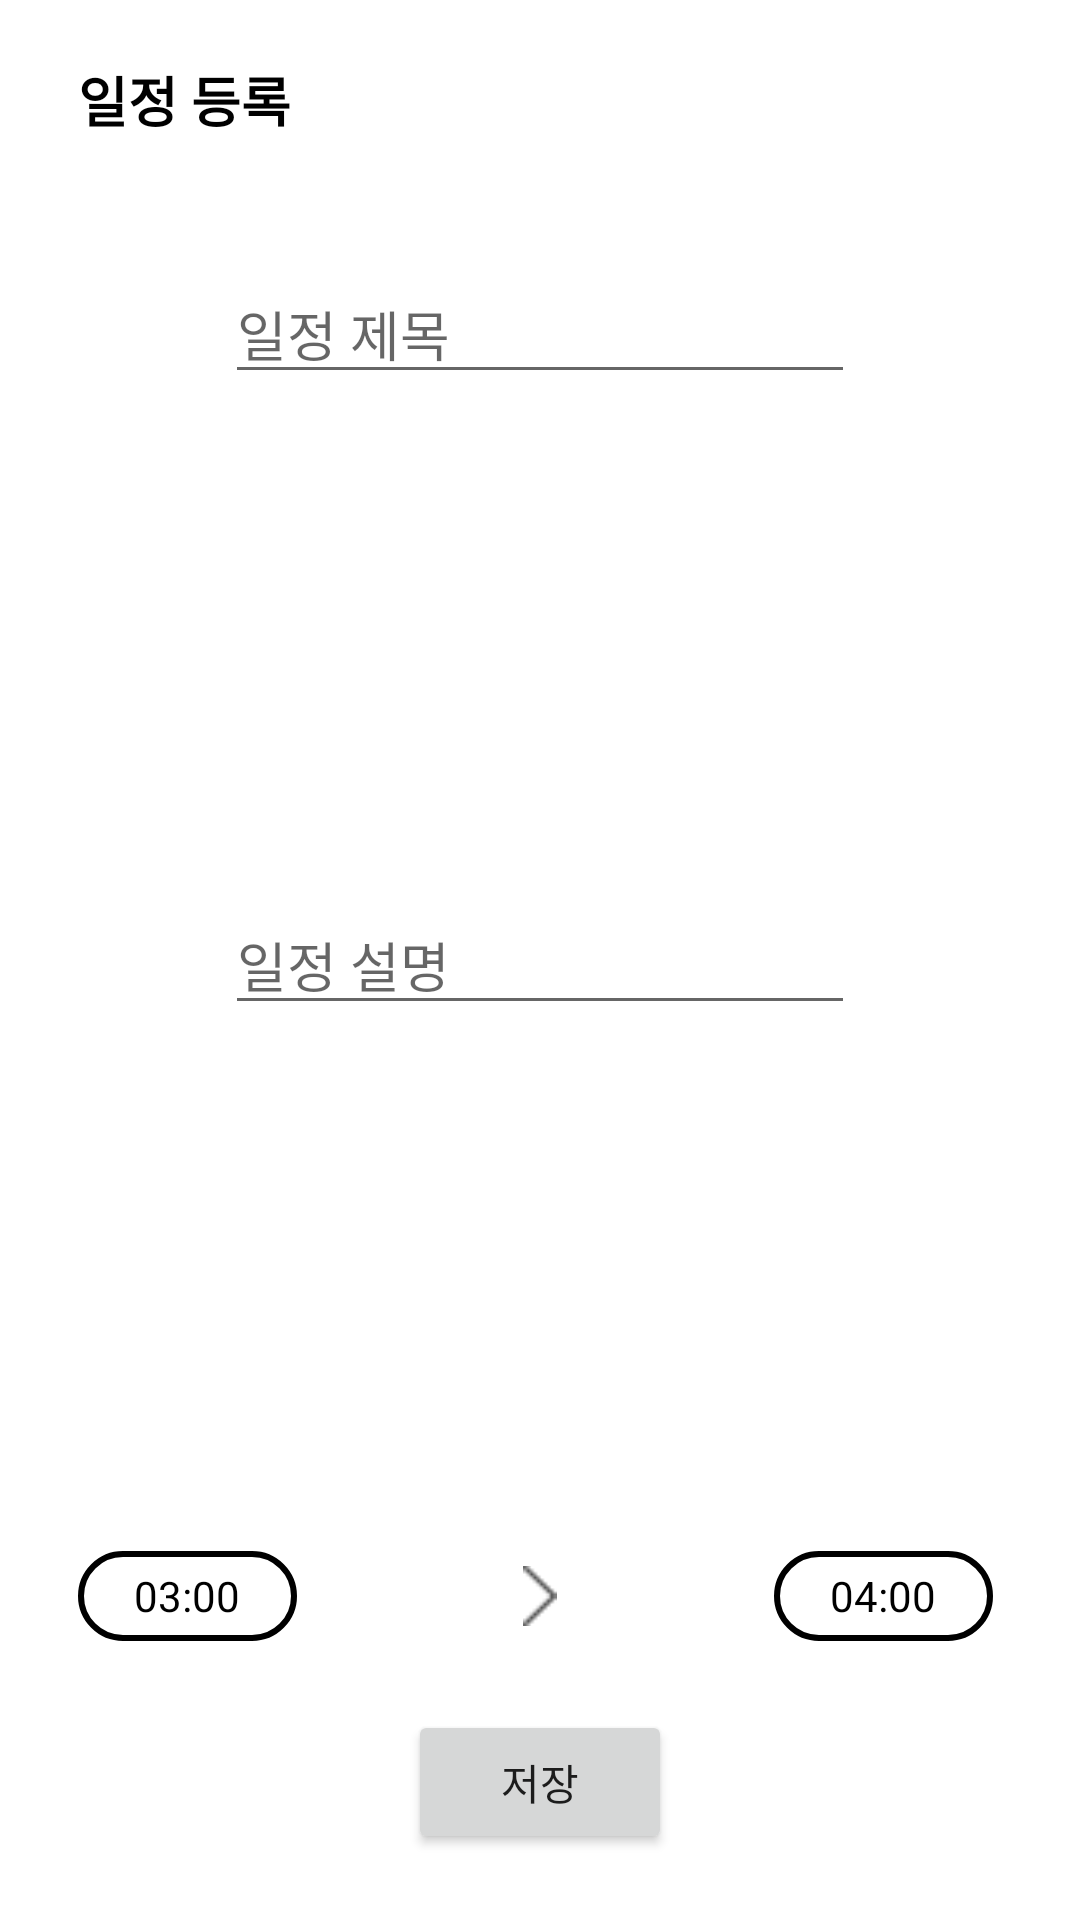

Icons on this 1080×1920 Android screen, each with its box as (x1, y1, x2, y2):
frontbtn: (523, 1566, 557, 1626)
